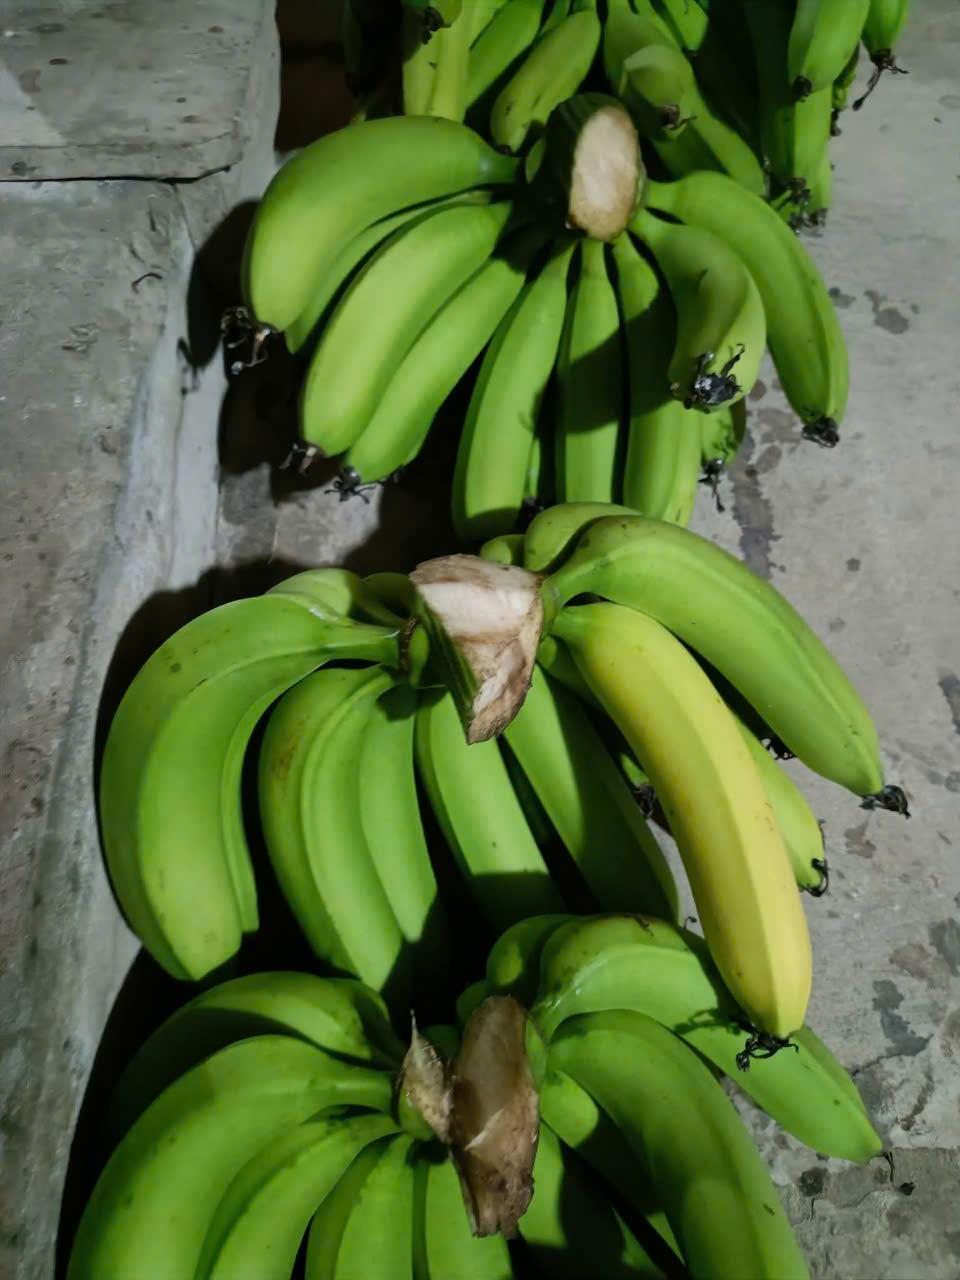banana: (463, 517, 888, 977), (143, 540, 482, 1013), (477, 920, 900, 1280), (243, 100, 592, 503), (70, 947, 463, 1280), (597, 100, 848, 530)
